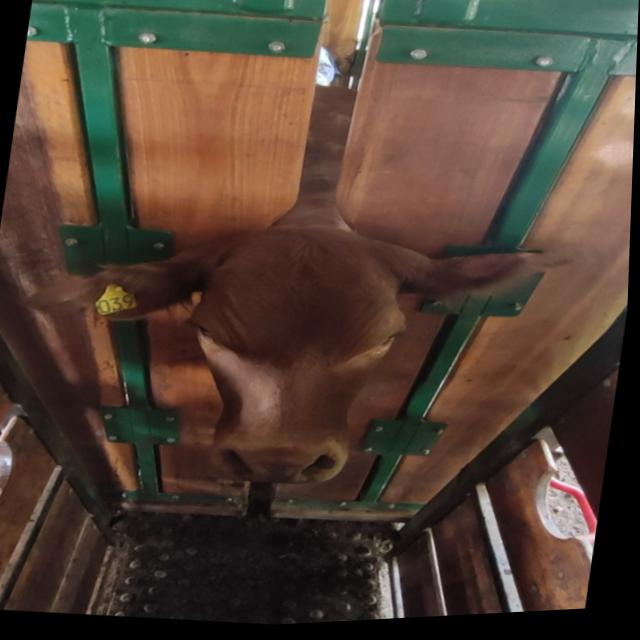cowFace: (168, 213, 423, 496)
